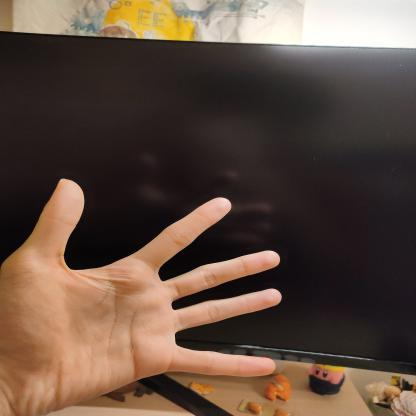bare_hand: (0, 163, 285, 415)
